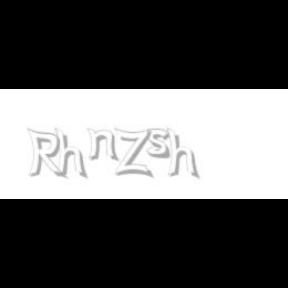R: (26, 128, 64, 180)
Z: (115, 128, 152, 178)
h: (54, 128, 90, 180), (166, 128, 201, 180)
n: (86, 128, 120, 162)
s: (147, 128, 175, 160)
